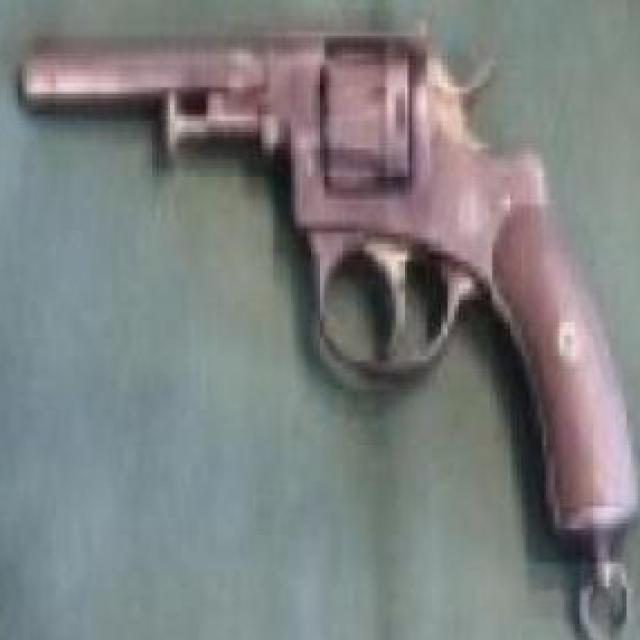pistol: (13, 16, 634, 542)
